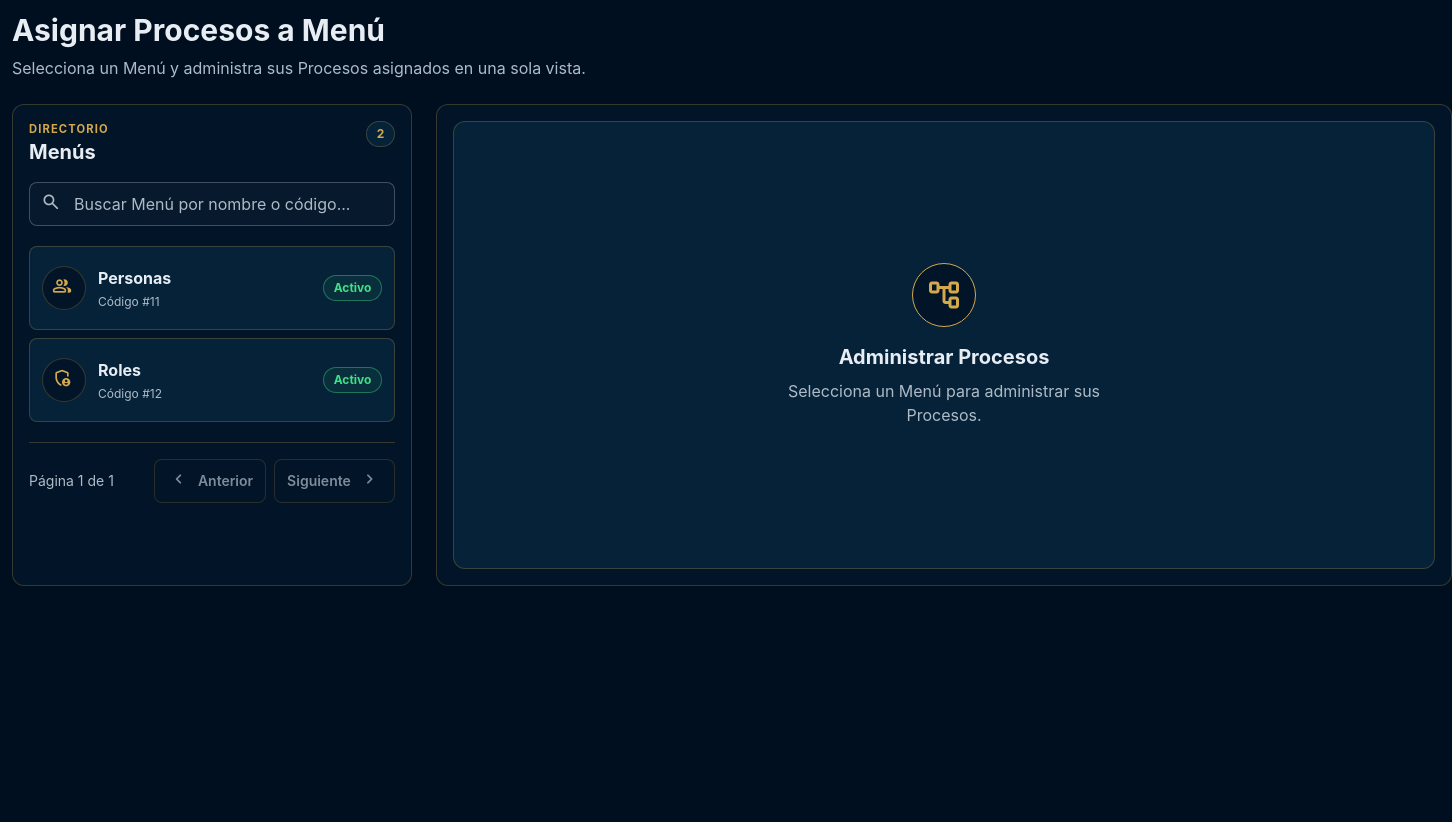
Test case: AsignarProcesosListComponent › renders an inactive assigned Proceso without making it available
Click the button "Personas Código #11 Activo".
click(64, 288)  # box [29, 246, 395, 330]
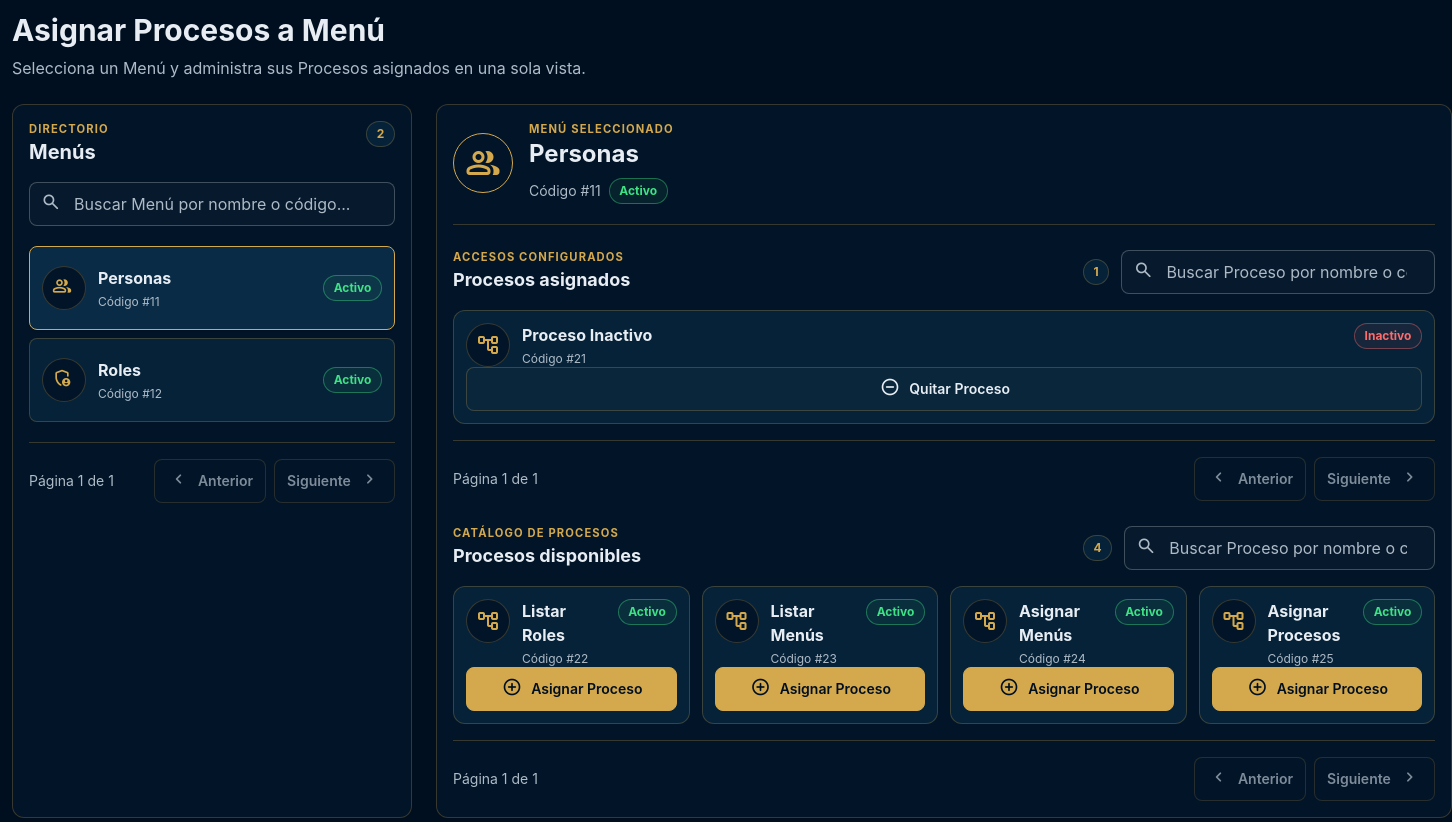
expect the element that starts with "Accesos configurados" shows "Inactivo": met, box [1364, 328, 1411, 343]
